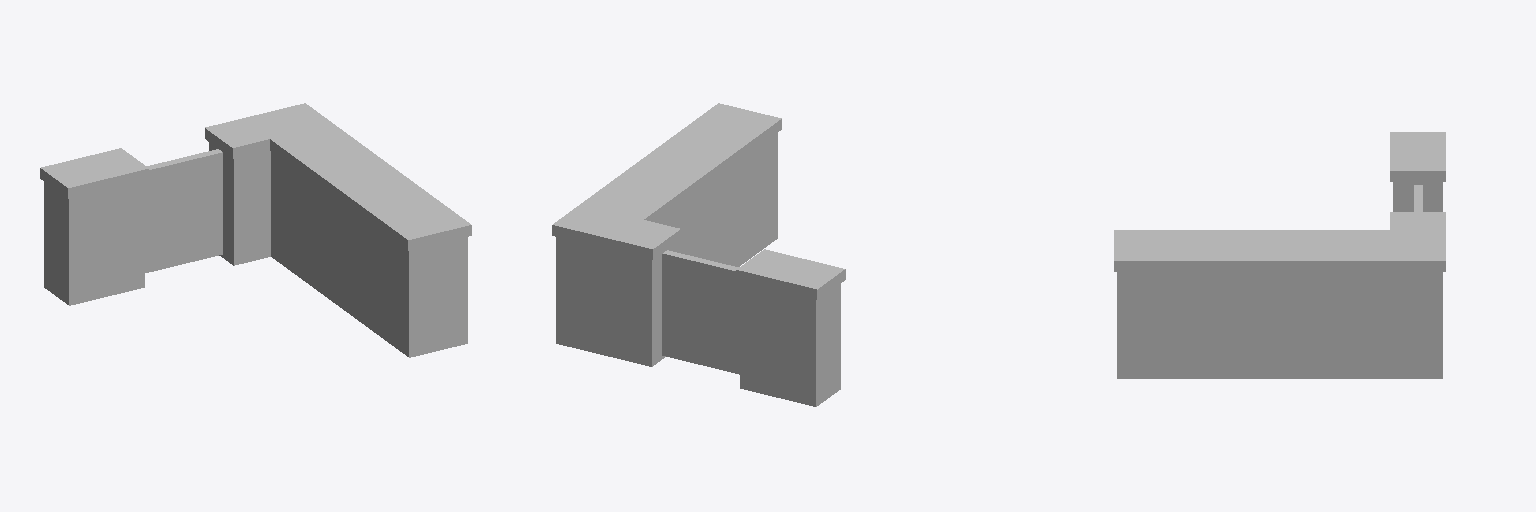
Rendered from table.1.obj.
The picture shows the model from 3 angles: view 1: azimuth 30°, elevation 25°; view 2: azimuth 150°, elevation 25°; view 3: azimuth 270°, elevation 25°; orthographic projection.
Visible parts, largest first — view 1: Cube.002; view 2: Cube.002; view 3: Cube.002.
Part boxes in pixels (left/top/right/bottom): Cube.002: left=40, top=103, right=471, bottom=357; Cube.002: left=552, top=103, right=845, bottom=406; Cube.002: left=1114, top=132, right=1445, bottom=378.
Size of the model in its own units: 2.79 by 1.2 by 3.03.